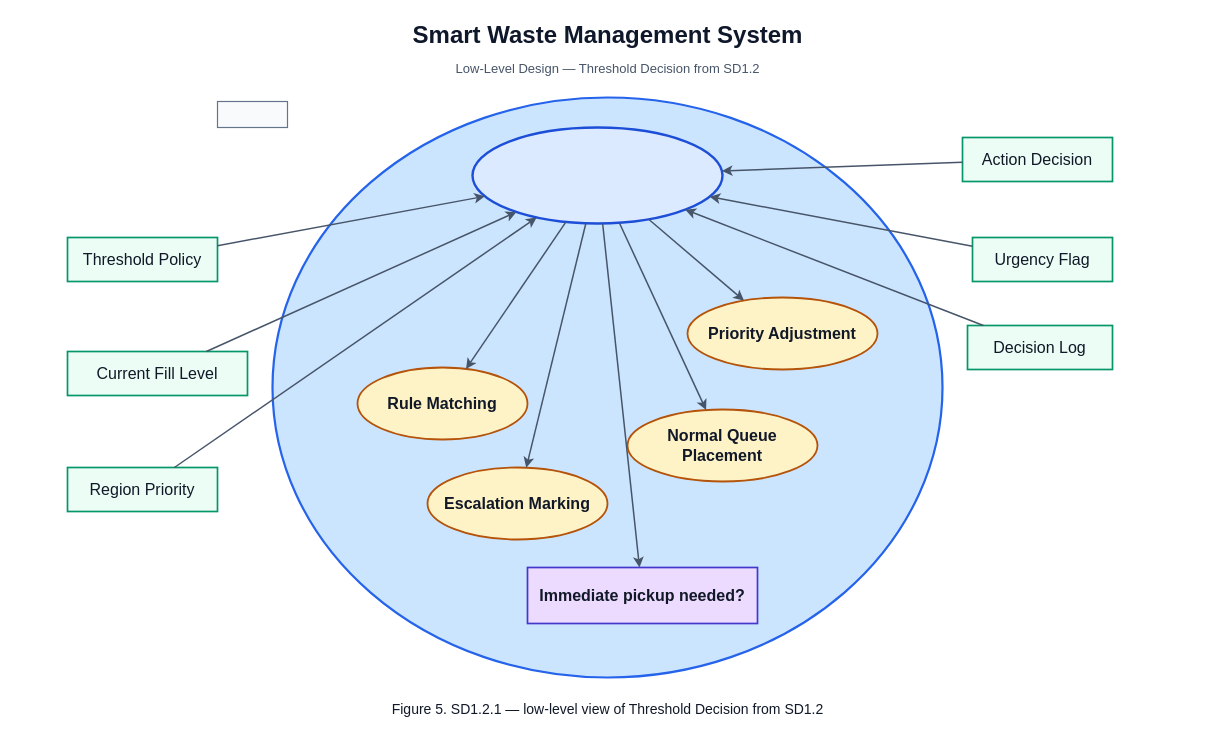
Image size: 1214x738. Some labels were removed from this diagram. The centre of each missing label's shape, as x and y in pixels:
"SD1.2.1" belongs at point 252,114.
"Threshold Decision" belongs at point 597,175.
